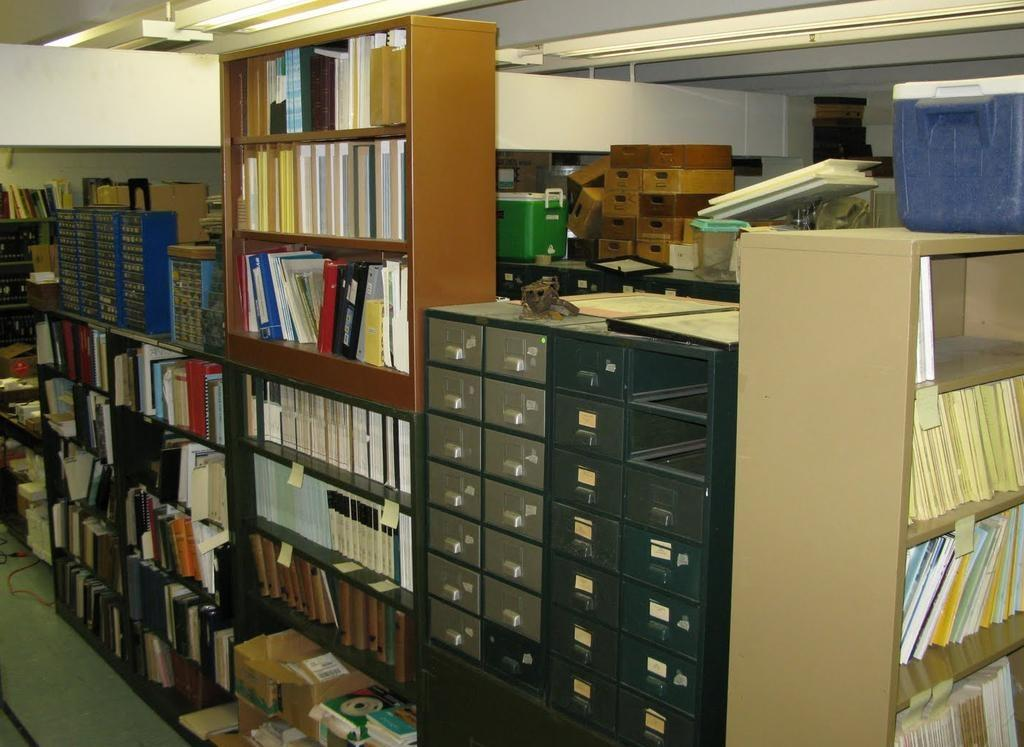Filing Cabinet: (416, 309, 716, 746)
Rak: (47, 308, 414, 746), (217, 12, 411, 414), (888, 234, 1023, 746)
